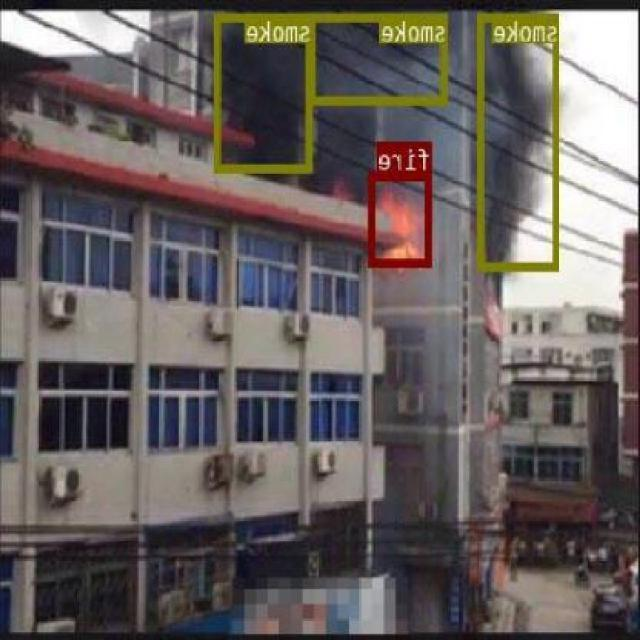Fire: (370, 172, 433, 266)
Smoke: (479, 12, 561, 270), (216, 12, 313, 171), (310, 13, 448, 104)
